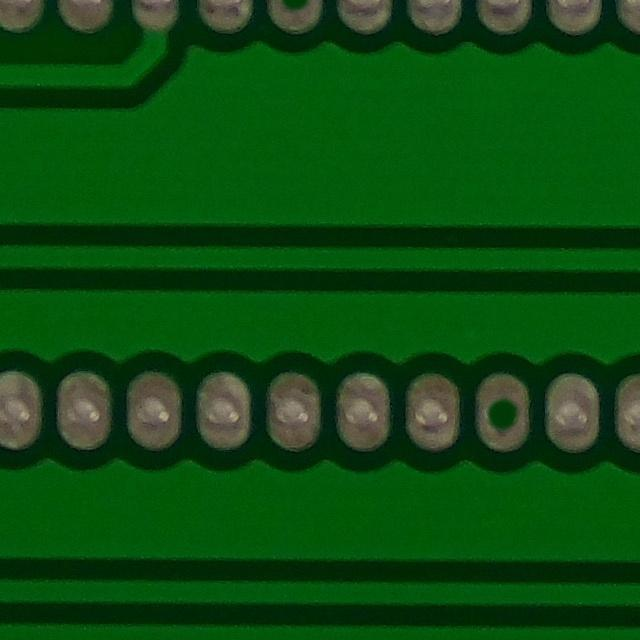missing_hole: (457, 361, 550, 466)
